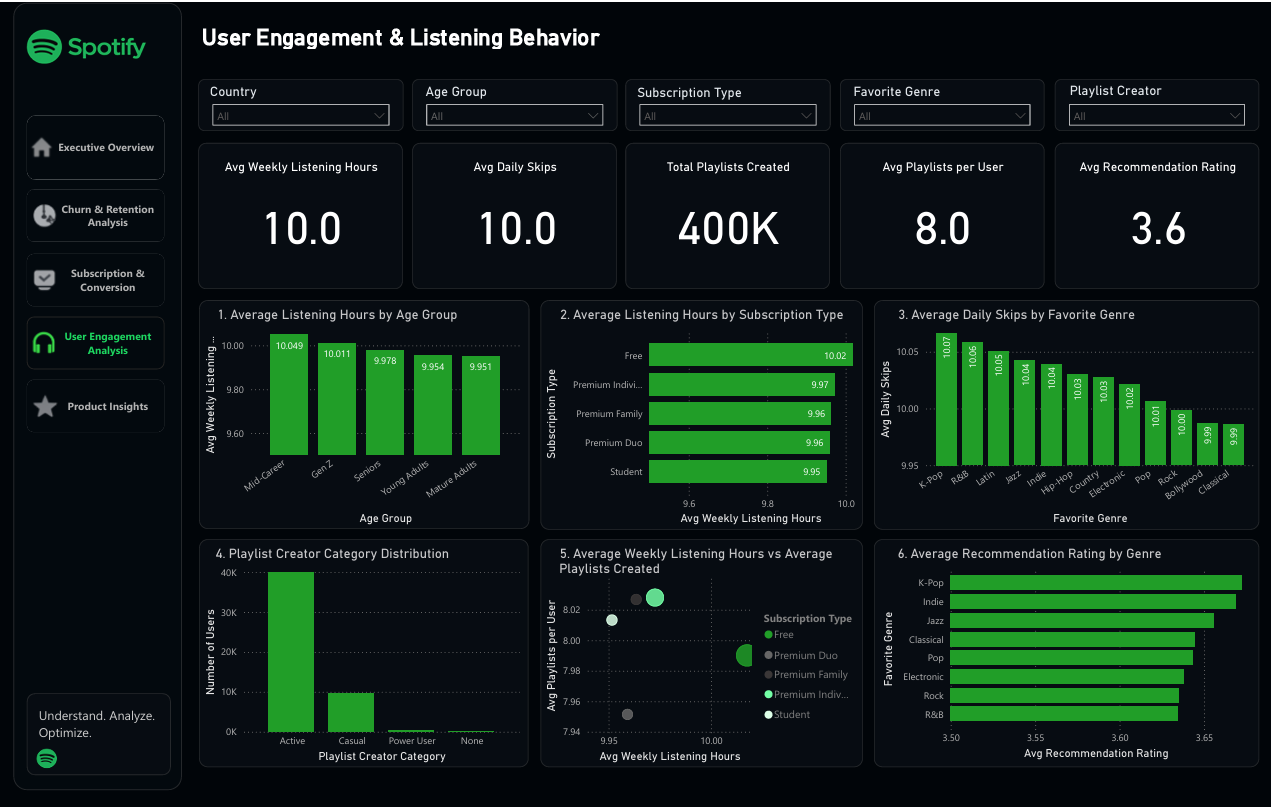

Layout of this report page (visuals, bound fields, positions):
{"tool":"powerbi","page":{"name":"User Engagement Analysis","canvas":[1620,1024],"ordinal":3},"visuals":[{"type":"card","title":"Avg Weekly Listening Hours","fields":{"Values":["Data.Avg Weekly Listening Hours"]},"box":[250.8,178.5,260,185.4],"z":0},{"type":"card","title":"Avg Daily Skips","fields":{"Values":["Avg(Data.avg_skips_per_day)"]},"box":[523.1,178.5,260,185.4],"z":1000},{"type":"card","title":"Total Playlists Created","fields":{"Values":["Sum(Data.playlists_created)"]},"box":[793.8,178.5,260,185.4],"z":2000},{"type":"card","title":"Avg Playlists per User","fields":{"Values":["Data.Avg Playlists per User"]},"box":[1066.9,178.5,260,185.4],"z":3000},{"type":"card","title":"Avg Recommendation Rating","fields":{"Values":["Avg(Data.music_suggestion_rating_1_to_5)"]},"box":[1340,178.5,260,185.4],"z":4000},{"type":"slicer","title":" ","fields":{"Values":["Data.Playlist Creator Category"]},"box":[1340,96.5,260,66.1],"z":5000},{"type":"clusteredColumnChart","title":" ","fields":{"Category":["Data.Age Group"],"Y":["Data.Avg Weekly Listening Hours"]},"box":[251.7,377.5,420,291.7],"z":6000},{"type":"clusteredColumnChart","title":" ","fields":{"Category":["Data.Playlist Creator Category"],"Y":["Data.Total Users"]},"box":[251.8,681.8,419.4,290.6],"z":7000},{"type":"clusteredBarChart","title":" ","fields":{"Y":["Data.Avg Weekly Listening Hours"],"Category":["Data.subscription_type"]},"box":[686,378,410,292],"z":8000},{"type":"slicer","title":" ","fields":{"Values":["Data.country"]},"box":[250.9,96.7,260.9,66.1],"z":9000},{"type":"slicer","title":" ","fields":{"Values":["Data.Age Group"]},"box":[523,96.7,260.9,66.1],"z":10000},{"type":"slicer","title":" ","fields":{"Values":["Data.subscription_type"]},"box":[793.9,96.7,260.9,66.1],"z":11000},{"type":"slicer","title":" ","fields":{"Values":["Data.favorite_genre"]},"box":[1067,96.7,260,66.1],"z":12000},{"type":"clusteredColumnChart","title":" ","fields":{"Y":["Avg(Data.avg_skips_per_day)"],"Category":["Data.favorite_genre"]},"box":[1110,378,490,292],"z":13000},{"type":"clusteredColumnChart","title":" ","fields":{"Category":["Data.Rating Given"],"Y":["Data.Avg Weekly Listening Hours"]},"box":[686,682,410,290],"z":14000},{"type":"clusteredBarChart","title":" ","fields":{"Y":["Avg(Data.music_suggestion_rating_1_to_5)"],"Category":["Data.favorite_genre"]},"box":[1110,682,490,290],"z":15000},{"type":"shape","box":[15.7,0,214.3,1001.4],"z":16000},{"type":"textbox","title":"Country","box":[261.4,102.9,90,25.7],"z":17000},{"type":"textbox","title":"Age Group","box":[535,102.9,110,22.9],"z":18000},{"type":"textbox","title":"Subscription Type","box":[804.3,104.3,180,24.3],"z":19000},{"type":"textbox","title":"Favorite Genre","box":[1078.6,102.9,180,25.7],"z":20000},{"type":"textbox","title":"Playlist Creator","box":[1354.3,101.3,133,25.7],"z":21000},{"type":"shape","box":[33,878,183,104],"z":22000},{"type":"textbox","box":[42.5,889.5,165.5,57],"z":23000},{"type":"textbox","title":"User Engagement & Listening Behavior","box":[251,27,559,31],"z":24000},{"type":"actionButton","box":[32.9,142.9,175,82.5],"z":25000},{"type":"actionButton","box":[32.9,236.7,175,67.5],"z":26000},{"type":"actionButton","box":[32.9,318.8,175,67.1],"z":27000},{"type":"actionButton","box":[32.9,398.8,175,67.5],"z":28000},{"type":"actionButton","box":[32.9,478.8,175,67.5],"z":29000},{"type":"image","box":[0,0,225.7,121.4],"z":30000},{"type":"textbox","title":"1. Average Listening Hours by Age Group","box":[270,386.2,351.5,25.4],"z":31000},{"type":"card","fields":{"Values":["Data.Avg Weekly Listening Hours"]},"box":[252.3,245.4,260,65.4],"z":32000},{"type":"card","fields":{"Values":["Avg(Data.avg_skips_per_day)"]},"box":[524.6,245.4,260,65.4],"z":33000},{"type":"card","fields":{"Values":["Sum(Data.playlists_created)"]},"box":[795.4,245.4,260,65.4],"z":34000},{"type":"card","fields":{"Values":["Data.Avg Playlists per User"]},"box":[1068.5,245.4,260,65.4],"z":35000},{"type":"card","fields":{"Values":["Avg(Data.music_suggestion_rating_1_to_5)"]},"box":[1341.5,245.4,260,65.4],"z":36000},{"type":"textbox","title":"2. Average Listening Hours by Subscription Type","box":[706.2,386.2,383.8,25.4],"z":37000},{"type":"textbox","title":"3. Average Daily Skips by Favorite Genre","box":[1136.2,386.2,351.5,25.4],"z":38000},{"type":"textbox","title":"4. Playlist Creator Category Distribution","box":[267.5,690,387.5,25],"z":39000},{"type":"textbox","title":"5. Avg Weekly Listening Hours: Rated vs Never Rated","box":[704.5,690,385.5,41.8],"z":40000},{"type":"textbox","title":"6. Average Recommendation Rating by Genre","box":[1134.6,690,373.1,25.4],"z":41000},{"type":"image","box":[42.7,947.3,30,27.3],"z":42000}]}

Visuals, with their boxes on the page's 1620x1024 design canvas (x1, y1, x2, y2). These are canvas units, not pixel positions in the 1271x807 screenshot, which may show the page scaled, cropped or inside an application window:
"Avg Weekly Listening Hours" card: locate(251, 178, 511, 364)
"Avg Daily Skips" card: locate(523, 178, 783, 364)
"Total Playlists Created" card: locate(794, 178, 1054, 364)
"Avg Playlists per User" card: locate(1067, 178, 1327, 364)
"Avg Recommendation Rating" card: locate(1340, 178, 1600, 364)
" " slicer: locate(1340, 96, 1600, 163)
" " clusteredColumnChart: locate(252, 378, 672, 669)
" " clusteredColumnChart: locate(252, 682, 671, 972)
" " clusteredBarChart: locate(686, 378, 1096, 670)
" " slicer: locate(251, 97, 512, 163)
" " slicer: locate(523, 97, 784, 163)
" " slicer: locate(794, 97, 1055, 163)
" " slicer: locate(1067, 97, 1327, 163)
" " clusteredColumnChart: locate(1110, 378, 1600, 670)
" " clusteredColumnChart: locate(686, 682, 1096, 972)
" " clusteredBarChart: locate(1110, 682, 1600, 972)
shape: locate(16, 0, 230, 1001)
"Country" textbox: locate(261, 103, 351, 129)
"Age Group" textbox: locate(535, 103, 645, 126)
"Subscription Type" textbox: locate(804, 104, 984, 129)
"Favorite Genre" textbox: locate(1079, 103, 1259, 129)
"Playlist Creator" textbox: locate(1354, 101, 1487, 127)
shape: locate(33, 878, 216, 982)
textbox: locate(42, 890, 208, 946)
"User Engagement & Listening Behavior" textbox: locate(251, 27, 810, 58)
actionButton: locate(33, 143, 208, 225)
actionButton: locate(33, 237, 208, 304)
actionButton: locate(33, 319, 208, 386)
actionButton: locate(33, 399, 208, 466)
actionButton: locate(33, 479, 208, 546)
image: locate(0, 0, 226, 121)
"1. Average Listening Hours by Age Group" textbox: locate(270, 386, 622, 412)
card - Data.Avg Weekly Listening Hours: locate(252, 245, 512, 311)
card - Avg(Data.avg_skips_per_day): locate(525, 245, 785, 311)
card - Sum(Data.playlists_created): locate(795, 245, 1055, 311)
card - Data.Avg Playlists per User: locate(1068, 245, 1328, 311)
card - Avg(Data.music_suggestion_rating_1_to_5): locate(1342, 245, 1602, 311)
"2. Average Listening Hours by Subscription Type" textbox: locate(706, 386, 1090, 412)
"3. Average Daily Skips by Favorite Genre" textbox: locate(1136, 386, 1488, 412)
"4. Playlist Creator Category Distribution" textbox: locate(268, 690, 655, 715)
"5. Avg Weekly Listening Hours: Rated vs Never Rated" textbox: locate(704, 690, 1090, 732)
"6. Average Recommendation Rating by Genre" textbox: locate(1135, 690, 1508, 715)
image: locate(43, 947, 73, 975)
